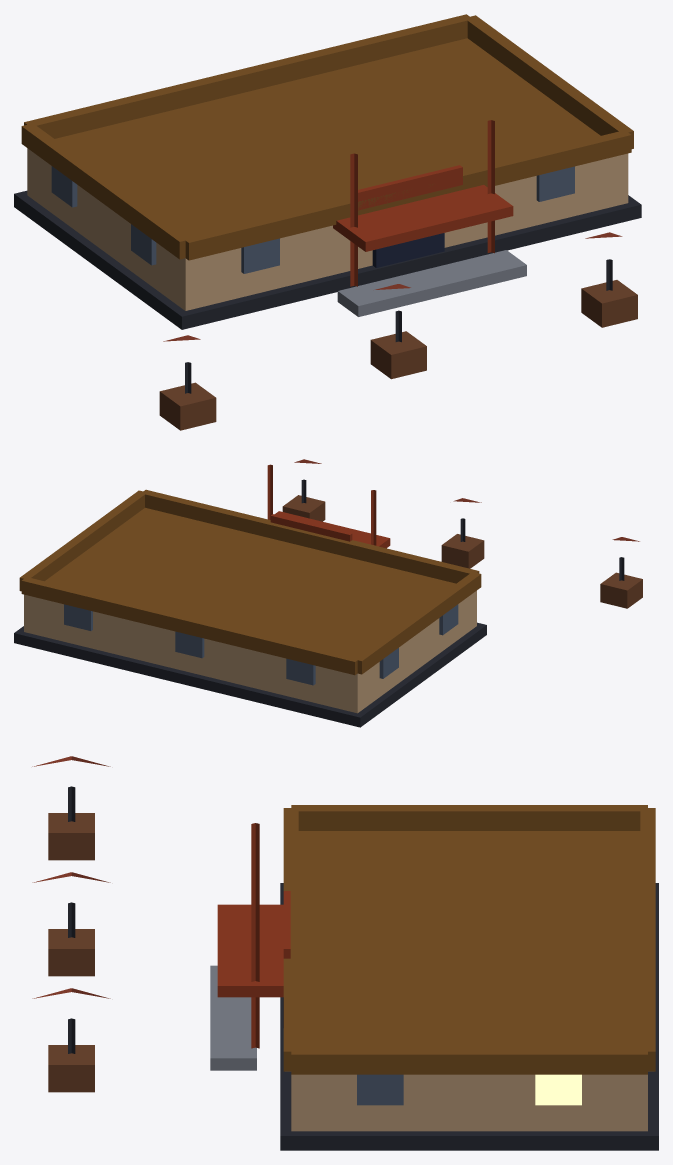
Rendered from nescafe-high.glb.
The picture shows the model from 3 angles, top to bottom: view 1: azimuth 30°, elevation 25°; view 2: azimuth 150°, elevation 25°; view 3: azimuth 270°, elevation 25°; orthographic projection. The views are drawn at different scales.
Bounding box in the file's own units: 56 × 13 × 47.
